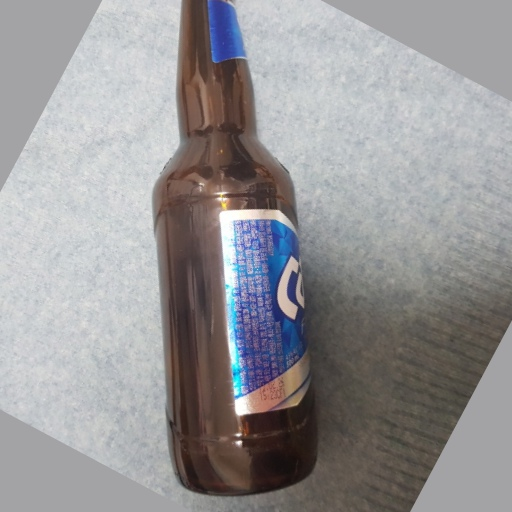Glass_1: (149, 2, 322, 498)
